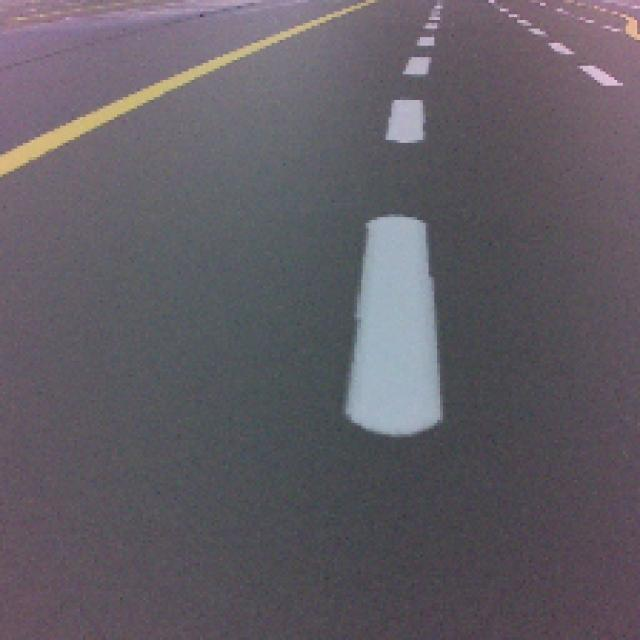Pedestrian crosswalk: (352, 213, 445, 435)
